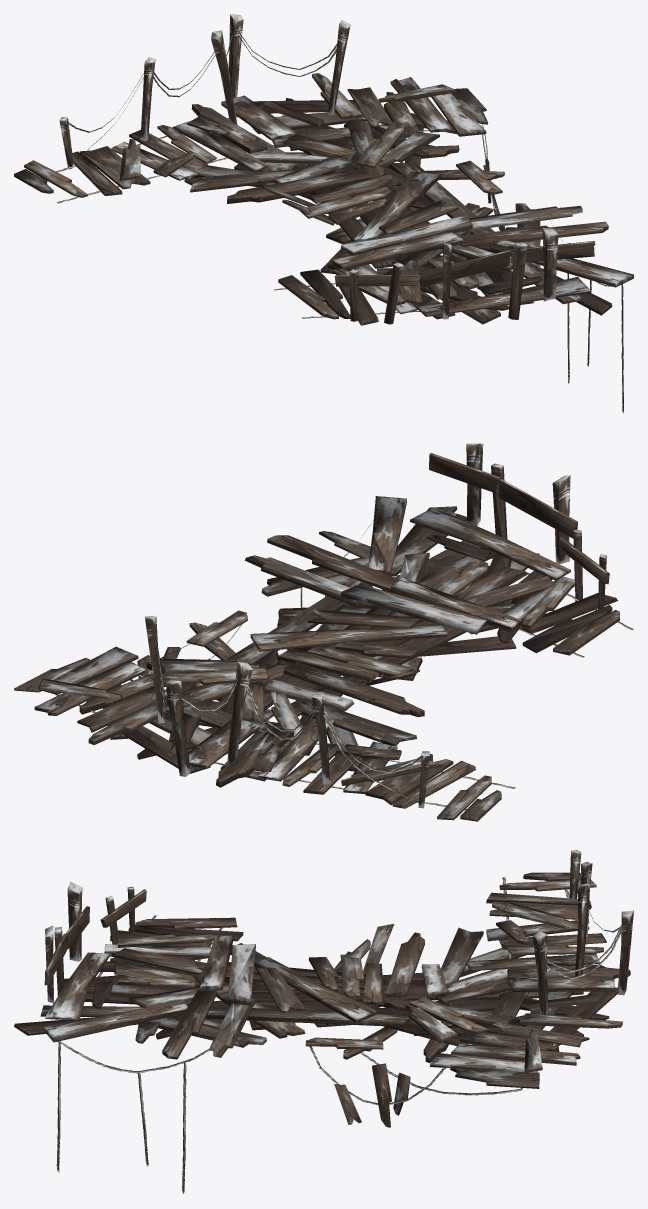
File: 2005_Item_mutou_3.FBX
The picture shows the model from 3 angles, top to bottom: view 1: azimuth 30°, elevation 25°; view 2: azimuth 150°, elevation 25°; view 3: azimuth 270°, elevation 25°; orthographic projection. The views are drawn at different scales.
Visible parts, largest first — view 1: 2005_Item_mutou_3; view 2: 2005_Item_mutou_3; view 3: 2005_Item_mutou_3.
Part boxes in pixels (x1=…): 2005_Item_mutou_3: x1=14, y1=14, x2=633, y2=413; 2005_Item_mutou_3: x1=14, y1=443, x2=633, y2=821; 2005_Item_mutou_3: x1=14, y1=850, x2=633, y2=1193.
Bounding box in the file's own units: 465 × 247 × 580.
